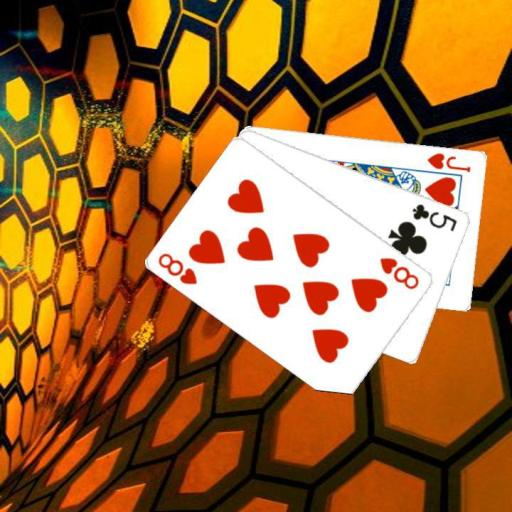5C: (410, 200, 460, 232)
8H: (377, 254, 422, 291), (155, 250, 199, 287)
JH: (425, 150, 472, 174)
